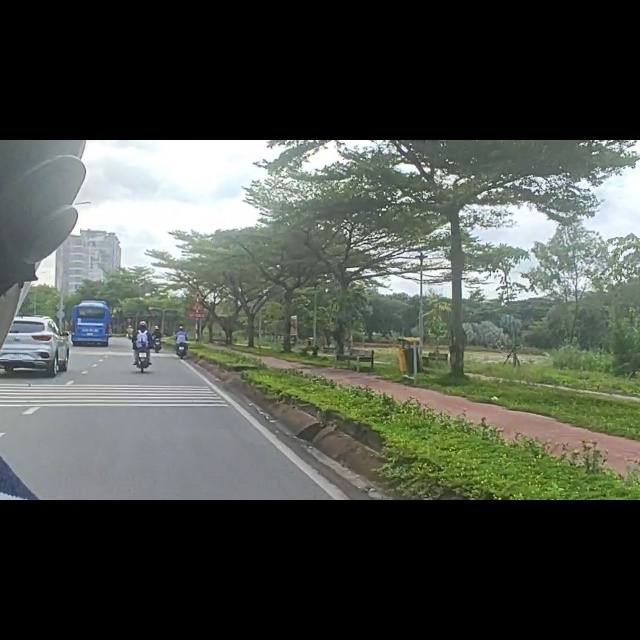bien_nguy_hiem: (191, 284, 206, 303)
